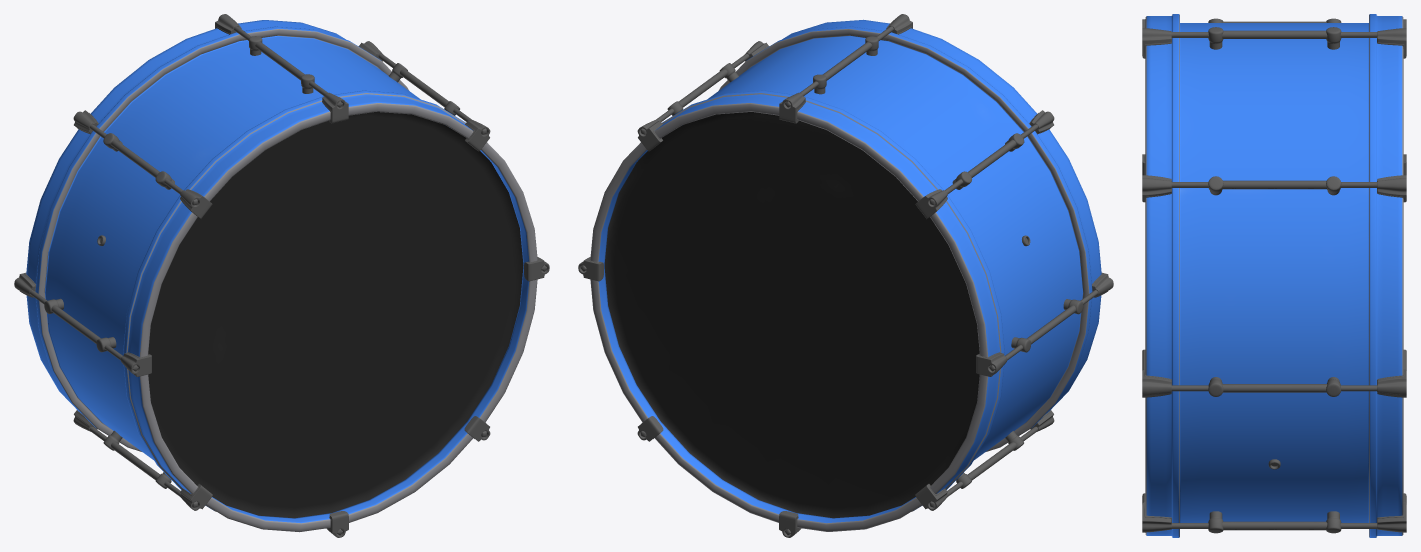
Rendered from kick2.fbx.
3 views of the same model, side by side, from view 1: azimuth 30°, elevation 25°; view 2: azimuth 150°, elevation 25°; view 3: azimuth 270°, elevation 25° (orthographic). The views are drawn at different scales.
Visible parts, largest first — view 1: 17309_Bass_drum_v1; view 2: 17309_Bass_drum_v1; view 3: 17309_Bass_drum_v1.
Part boxes in pixels (x1,y1,x2,y2): 17309_Bass_drum_v1: (14,14,549,537); 17309_Bass_drum_v1: (578,14,1113,537); 17309_Bass_drum_v1: (1142,14,1406,537).
Size of the model in its own units: 335 by 335 by 162.
Materials: 1 (1 with a texture image).
